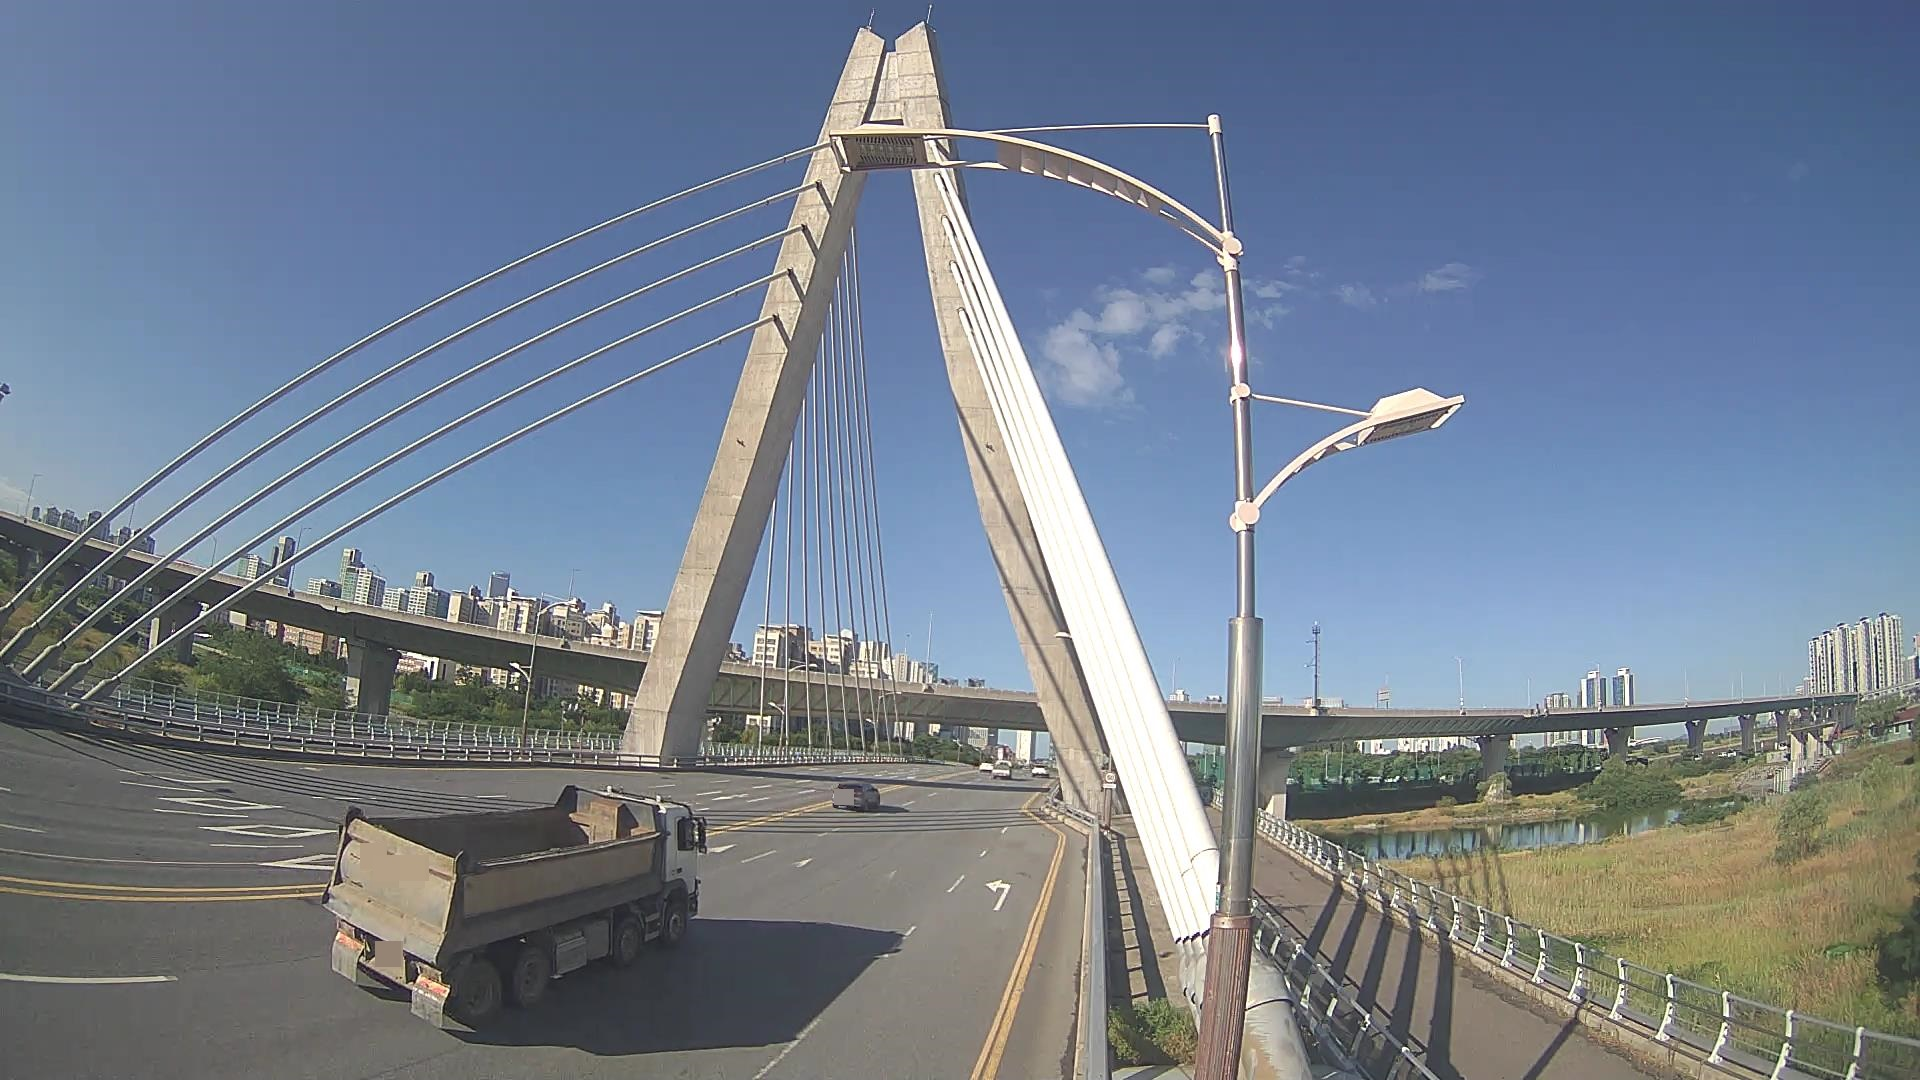정상차량: (322, 785, 707, 1026)
